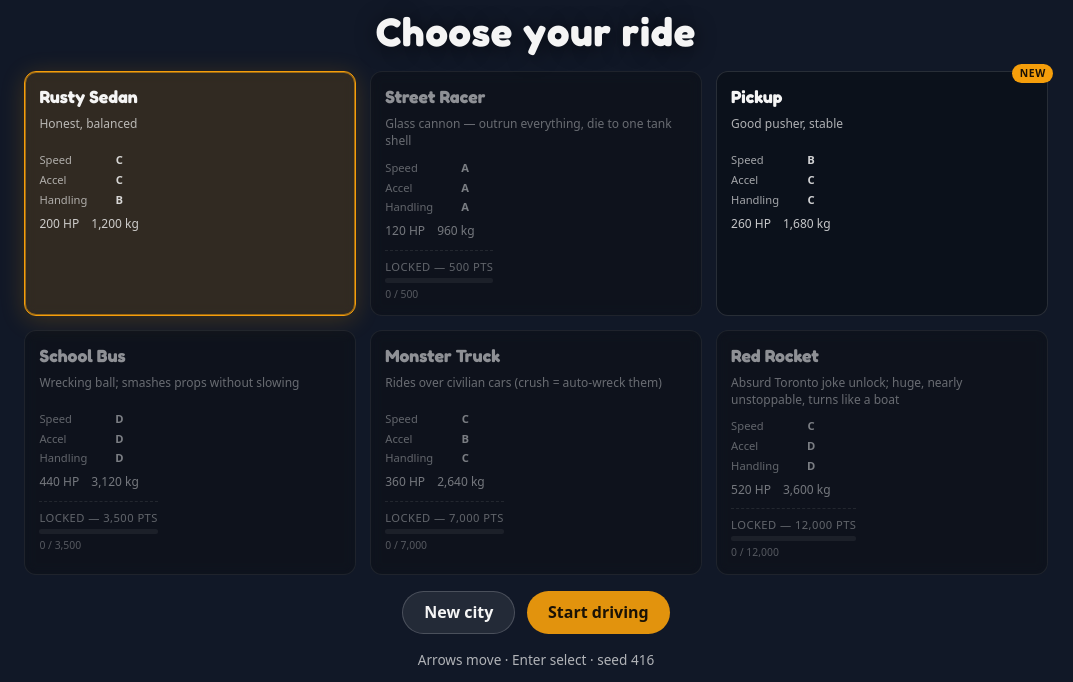
Test: Garage › shows a NEW badge on a car unlocked this session, cleared on first selection
Expected: the text "NEW" is shown, left=1012, top=64, right=1053, bottom=83
Click the button with test id "garage-card-pickup".
click(757, 97)  # box left=716, top=71, right=1048, bottom=316
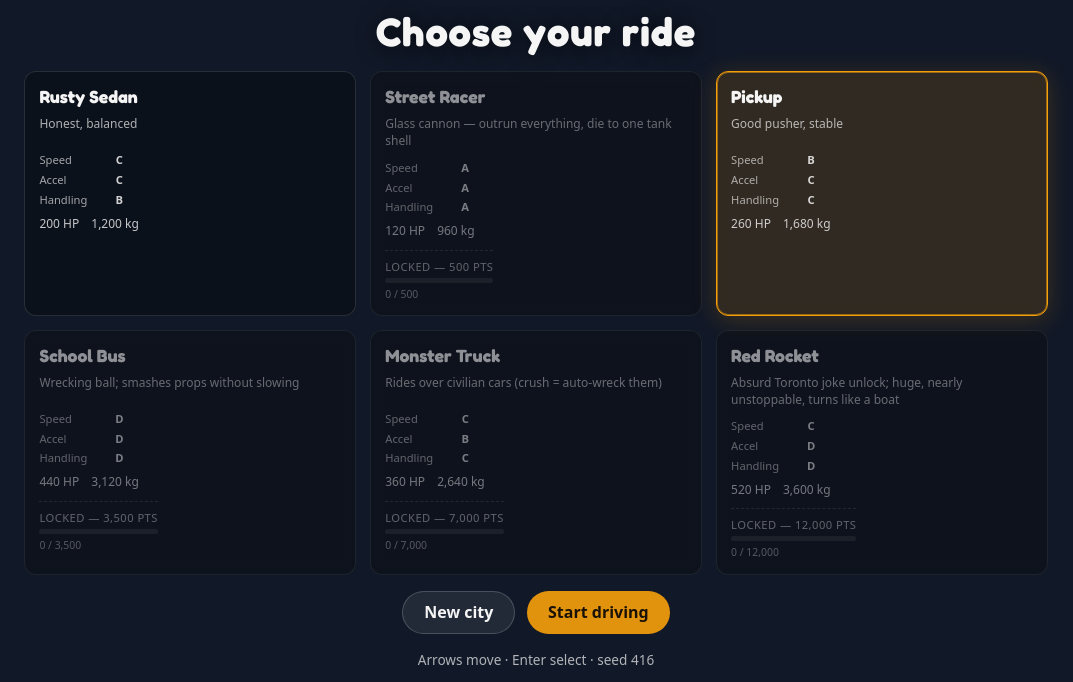
Result: the text with test id "garage-new-pickup" is gone
